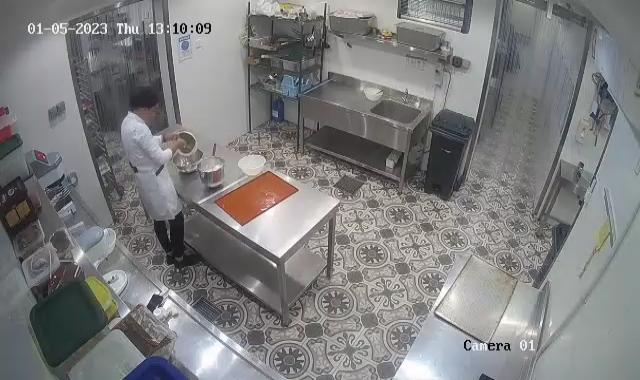no_hairnet: (127, 85, 162, 114)
